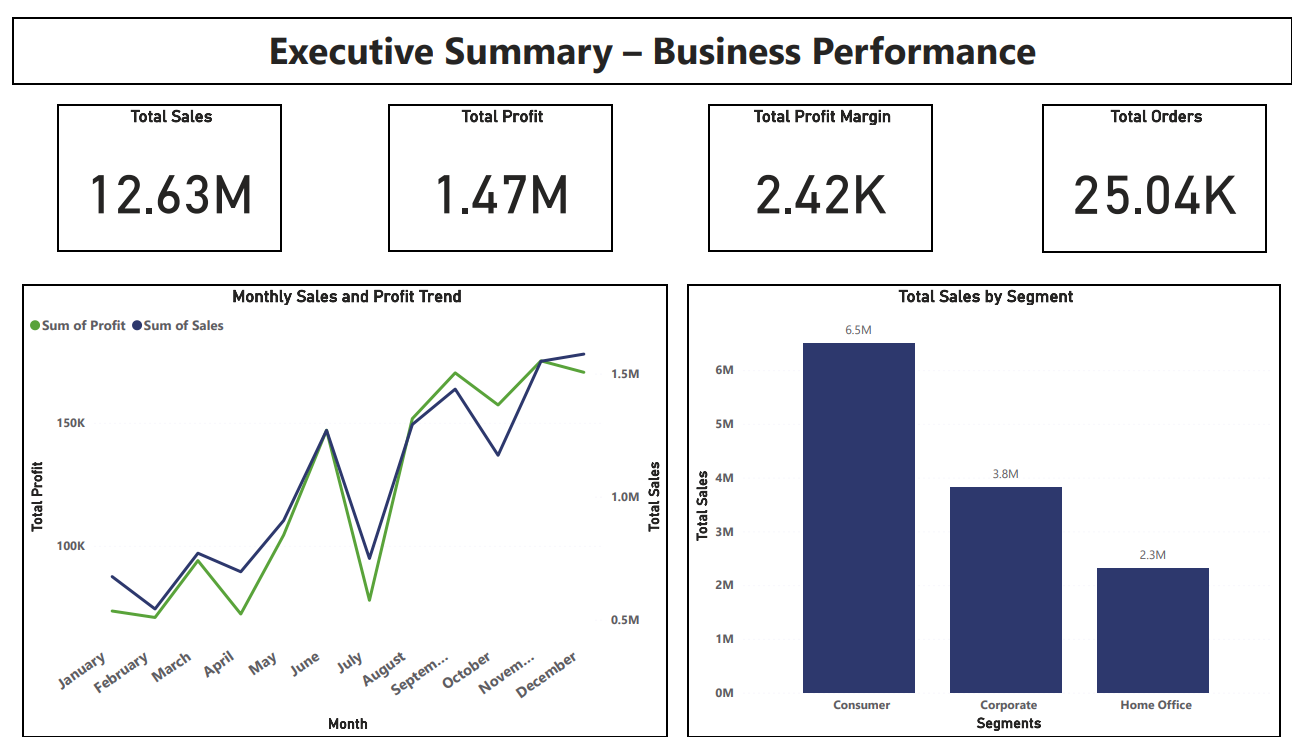

The page's visual inventory and layout, read from the dashboard file:
{"tool":"powerbi","page":{"name":"Executive Summary Dashboard","canvas":[1280,720],"ordinal":0},"visuals":[{"type":"textbox","box":[0,0,1280.8,68],"z":0},{"type":"card","title":"Total Sales","fields":{"Values":["Sum(Global_Superstore2.Sales)"]},"box":[45.3,87.4,225.1,147.3],"z":1000},{"type":"card","title":"Total Profit","fields":{"Values":["Sum(Global_Superstore2.Profit)"]},"box":[375.7,87.4,225.1,147.3],"z":2000},{"type":"card","title":"Total Profit Margin","fields":{"Values":["Sum(Global_Superstore2.Profit Margin)"]},"box":[696.3,87.4,225.1,147.3],"z":3000},{"type":"card","title":"Total Orders","fields":{"Values":["Count(Global_Superstore2.Order ID)"]},"box":[1029.8,87.4,225.1,149],"z":4000},{"type":"lineChart","title":"Monthly Sales and Profit Trend","fields":{"Y":["Sum(Global_Superstore2.Profit)"],"Y2":["Sum(Global_Superstore2.Sales)"],"Category":["Global_Superstore2.Order Date.Variation.Date Hierarchy.Month"]},"box":[9.7,267.2,646.1,453.4],"z":5000},{"type":"columnChart","title":"Total Sales by Segment","fields":{"Category":["Global_Superstore2.Segment"],"Y":["Sum(Global_Superstore2.Sales)"]},"box":[675.2,267.2,594.3,453.4],"z":6000}]}

Visuals, with their boxes in screenshot pixels (x1, y1, x2, y2), scaled from the page's 1280x720 canvas onto the 1302x751 screenshot:
textbox: <region>0, 0, 1301, 71</region>
"Total Sales" card: <region>46, 91, 275, 245</region>
"Total Profit" card: <region>382, 91, 611, 245</region>
"Total Profit Margin" card: <region>708, 91, 937, 245</region>
"Total Orders" card: <region>1047, 91, 1276, 247</region>
"Monthly Sales and Profit Trend" lineChart: <region>10, 279, 667, 750</region>
"Total Sales by Segment" columnChart: <region>687, 279, 1291, 750</region>
